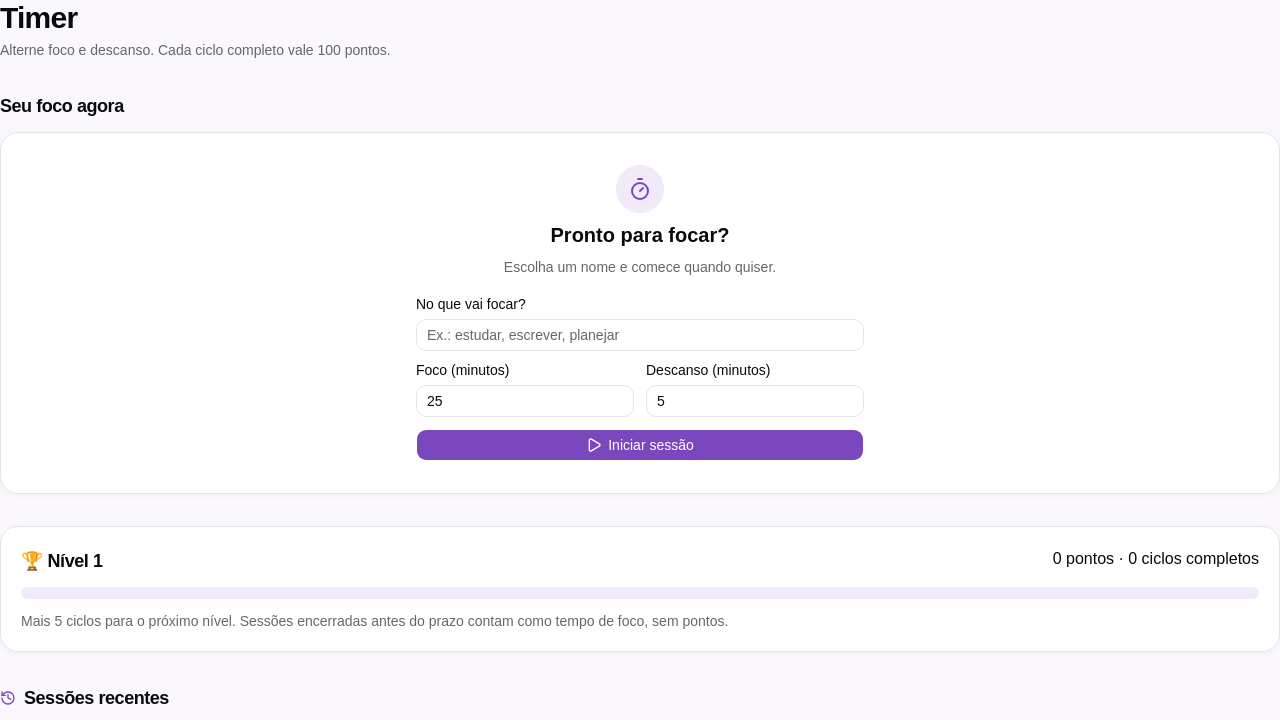
Scenario: TimerPage › starts and displays a named live focus session
Type "Escrever proposta" into the field labelled "No que vai focar?" at point(640, 335), box [416,319,864,351]
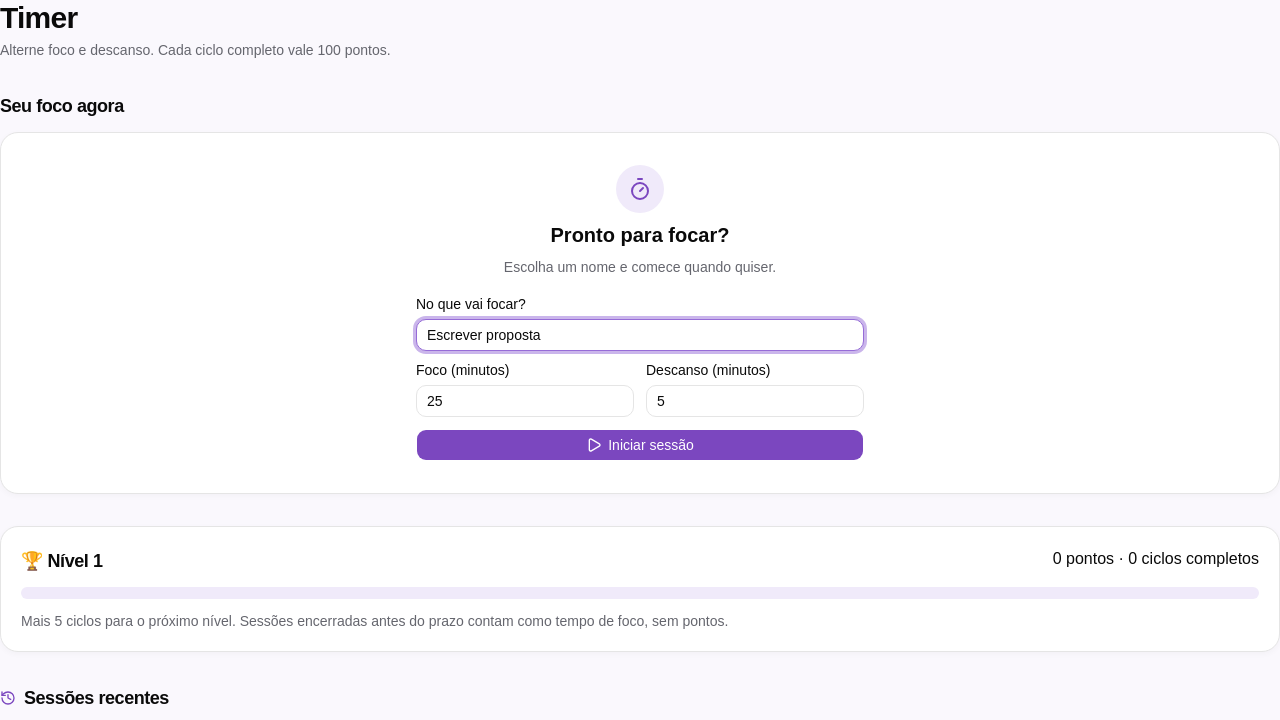
Click the button "Iniciar sessão" at point(640, 445), box [416,429,864,461]
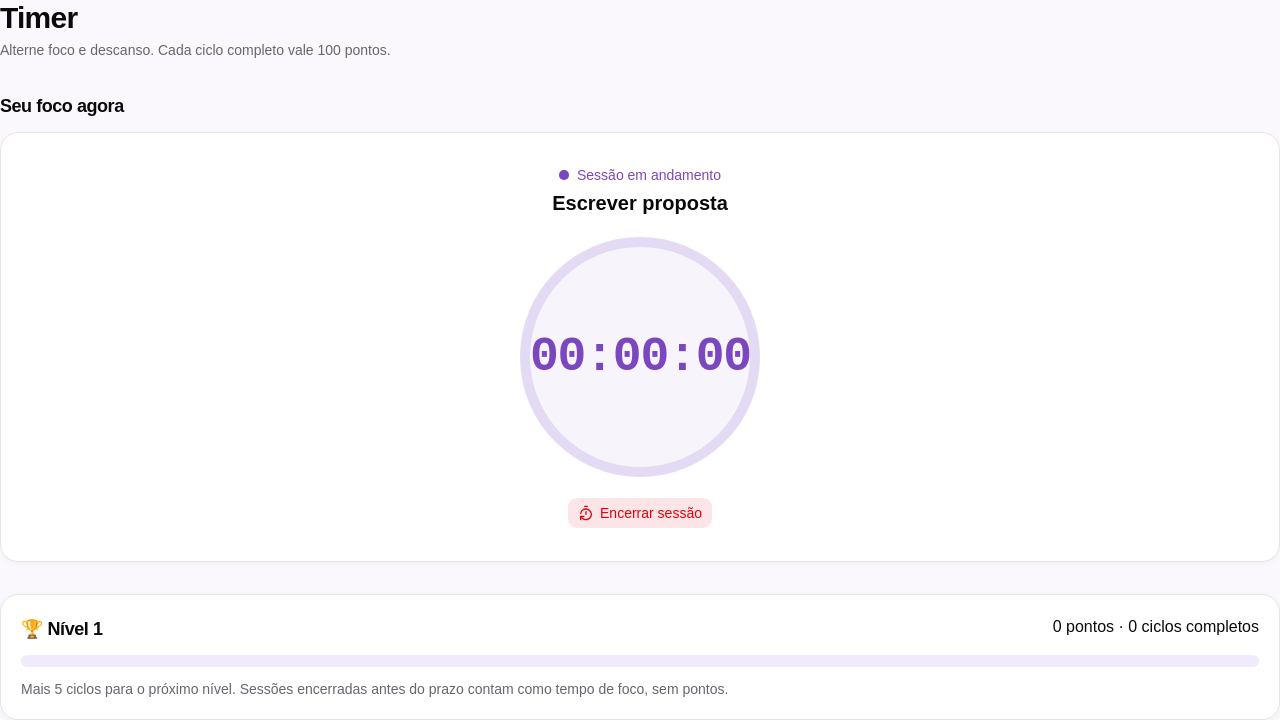
Expected: the text "Sessão em andamento" is shown, [552,165,728,185]
Expected: the heading "Escrever proposta" is shown, [552,189,728,217]
Expected: the text "00:00:00" is shown, [530,333,751,381]
